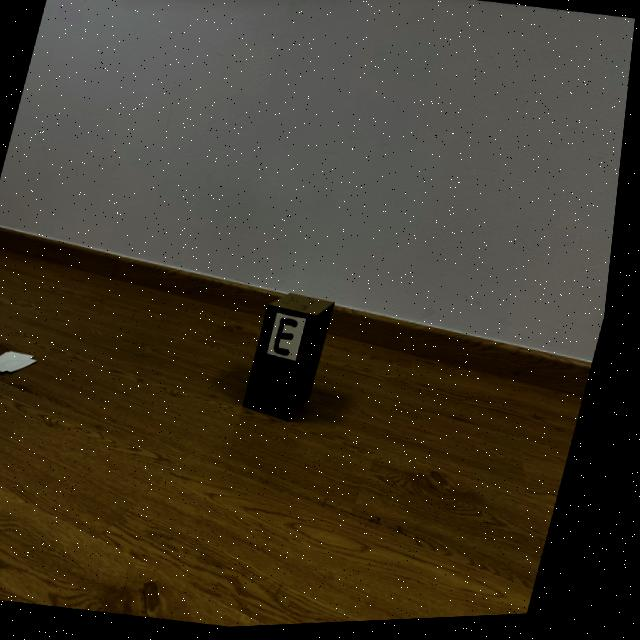E: (281, 320, 305, 358)
